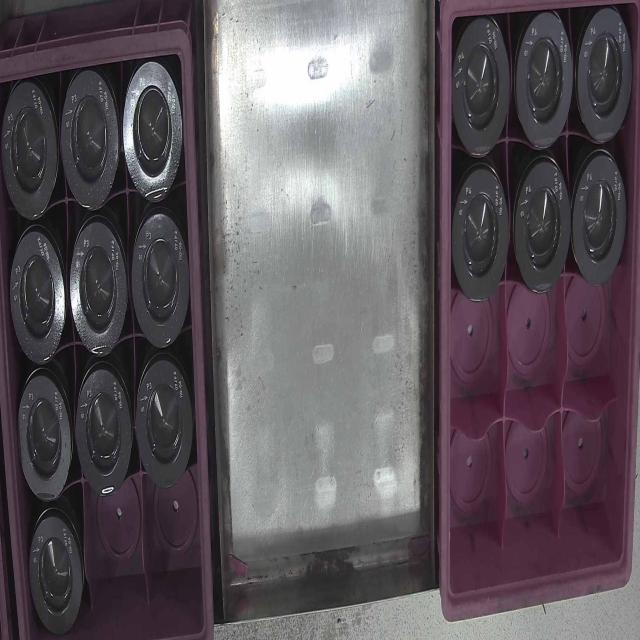P3: (118, 62, 185, 200), (129, 211, 188, 358), (74, 369, 135, 502), (5, 235, 69, 361), (58, 74, 119, 205), (11, 373, 74, 498), (0, 84, 60, 215), (136, 363, 196, 490), (22, 510, 86, 629), (68, 222, 125, 348)
P4: (568, 149, 634, 292), (450, 15, 510, 160), (511, 154, 571, 296), (514, 10, 572, 154), (576, 5, 633, 140), (456, 166, 508, 302)
